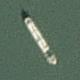ship: (1, 0, 4, 30)
